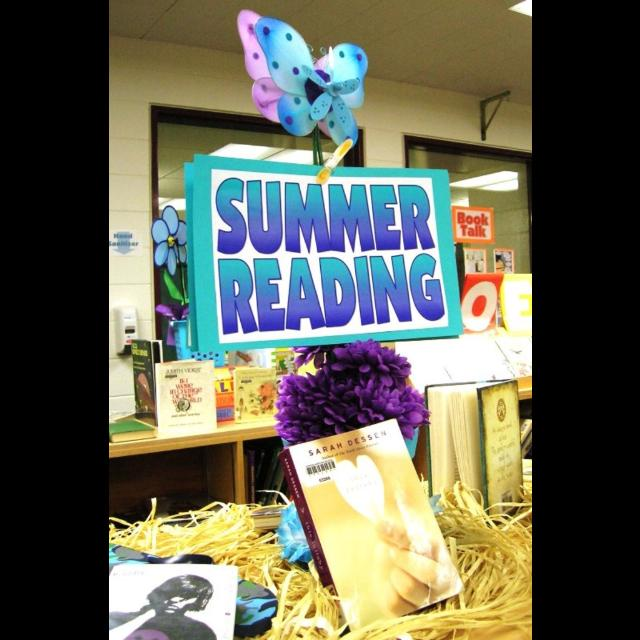Flower: (272, 344, 433, 452), (300, 60, 360, 136), (144, 199, 194, 277), (496, 251, 512, 273), (258, 383, 272, 397), (259, 397, 269, 407), (250, 407, 260, 415)
